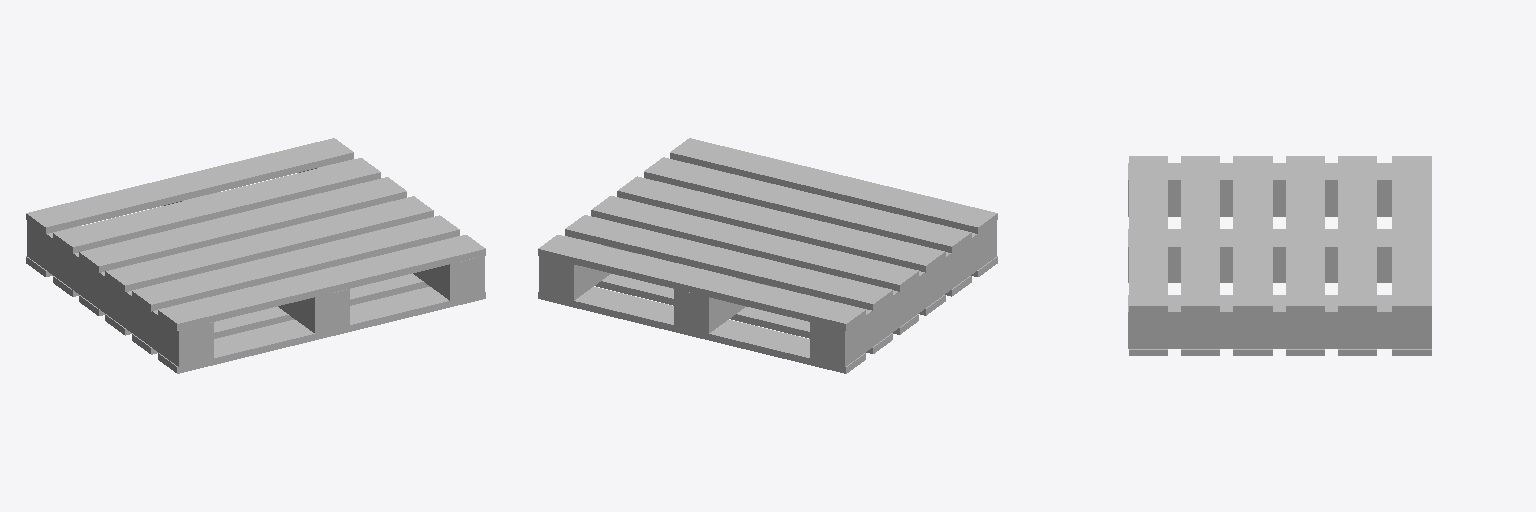
File: Pallet.obj
3 views of the same model, side by side, from view 1: azimuth 30°, elevation 25°; view 2: azimuth 150°, elevation 25°; view 3: azimuth 270°, elevation 25° (orthographic).
Parts seen in each view (by area): view 1: pCube9, pCube4, pCube7, pCube5, pCube6, pCube8, pCube1, pCube10, pCube11, pCube2, pCube3; view 2: pCube5, pCube4, pCube7, pCube8, pCube6, pCube9, pCube1, pCube15, pCube14, pCube3, pCube2; view 3: pCube3, pCube7, pCube4, pCube9, pCube8, pCube6, pCube5, pCube1, pCube2.
Boxes of the visible parts, x1,y1,x2,y2 form: pCube9: [158, 235, 485, 330]; pCube4: [26, 138, 353, 233]; pCube7: [105, 196, 433, 291]; pCube5: [53, 158, 380, 253]; pCube6: [79, 177, 406, 272]; pCube8: [132, 215, 459, 311]; pCube1: [27, 221, 213, 366]; pCube10: [158, 287, 485, 373]; pCube11: [132, 273, 429, 354]; pCube2: [164, 192, 349, 333]; pCube3: [299, 159, 484, 300]; pCube5: [565, 215, 892, 310]; pCube4: [538, 235, 865, 330]; pCube7: [617, 176, 945, 272]; pCube8: [644, 157, 971, 252]; pCube6: [591, 196, 918, 291]; pCube9: [670, 138, 997, 233]; pCube1: [810, 221, 996, 366]; pCube15: [538, 287, 865, 373]; pCube14: [595, 274, 892, 353]; pCube3: [539, 236, 637, 300]; pCube2: [674, 269, 772, 333]; pCube3: [1128, 295, 1431, 348]; pCube7: [1233, 156, 1272, 312]; pCube4: [1392, 156, 1431, 312]; pCube9: [1129, 156, 1167, 312]; pCube8: [1181, 156, 1219, 312]; pCube6: [1286, 156, 1324, 312]; pCube5: [1338, 156, 1376, 312]; pCube1: [1128, 163, 1391, 216]; pCube2: [1128, 229, 1391, 282].
Size of the model in its own units: 3.55 by 0.5494 by 3.02.